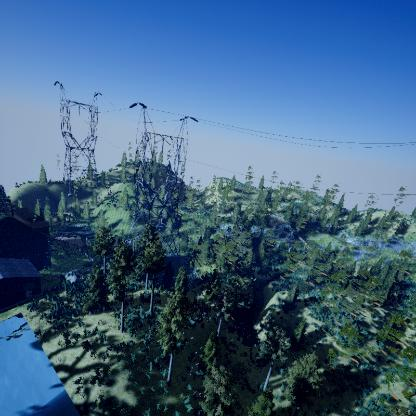tower: (127, 100, 200, 267), (50, 77, 108, 209)
